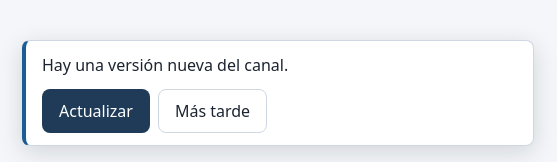
it: AvisoDeActualizacion › si no puede actualizar lo dice y lo registra
Click the button "Actualizar" at (96, 111), box [42, 89, 150, 133]
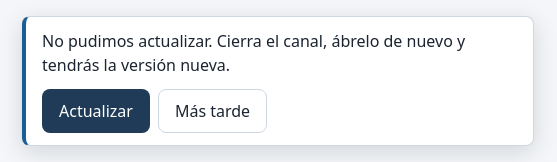
Expected: the text "No pudimos actualizar" is shown, [42, 30, 465, 76]
